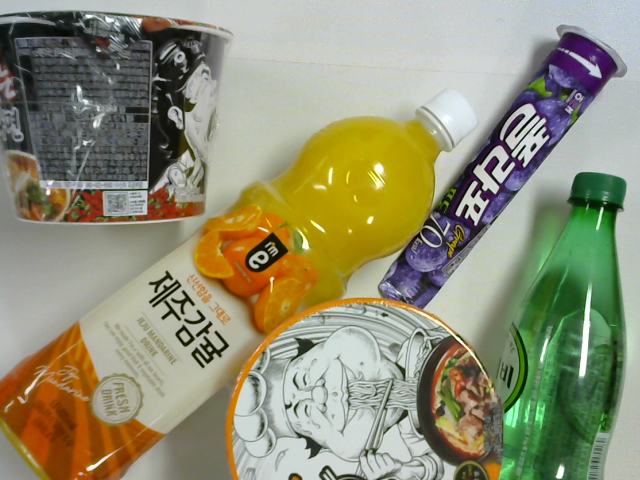HeJangsock: (1, 16, 237, 221)
Hejangchan: (225, 298, 506, 480)
Jeju_Tangerine_1.5L: (1, 88, 478, 479)
Polapo_Grape: (385, 30, 623, 309)
Treviraim_500ml: (490, 170, 633, 480)
